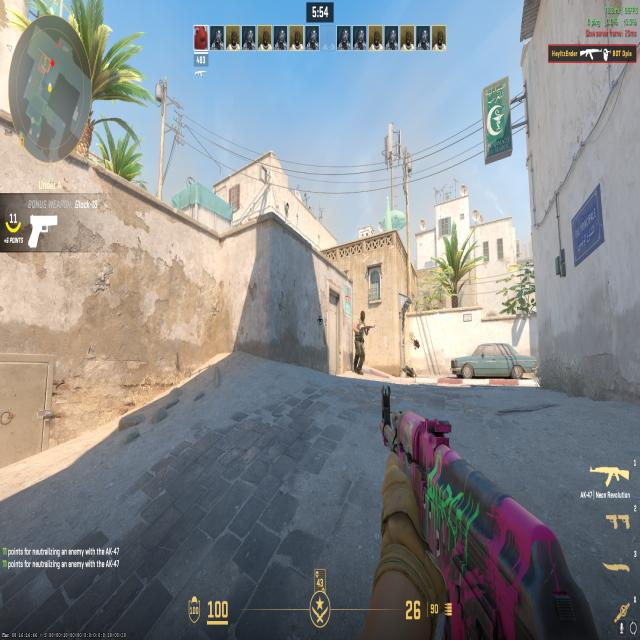t: (350, 298, 372, 381)
